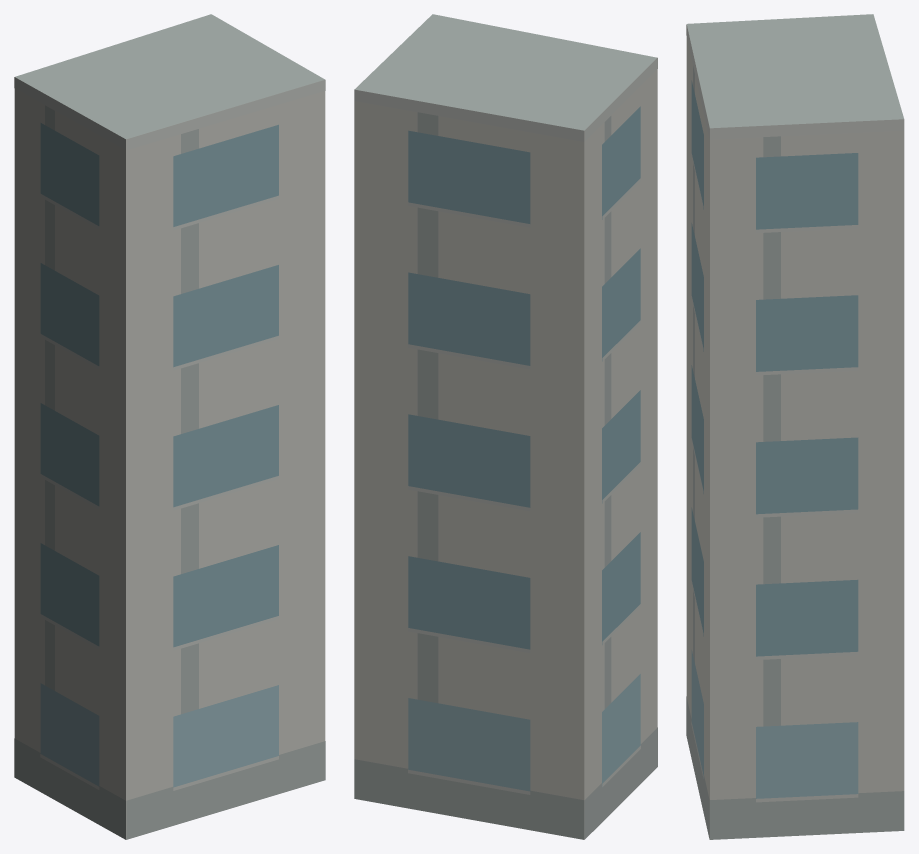
The model's file is survey-upis-32782228.glb.
3 renders of one model, left to right at view 1: azimuth 30°, elevation 25°; view 2: azimuth 150°, elevation 25°; view 3: azimuth 270°, elevation 25°, orthographic.
Visible parts, largest first — view 1: survey-upis-32782228.tmp; view 2: survey-upis-32782228.tmp; view 3: survey-upis-32782228.tmp.
Boxes of the visible parts, box(x1,y1,x2,y2) form: survey-upis-32782228.tmp: box(14, 14, 325, 839); survey-upis-32782228.tmp: box(354, 14, 657, 839); survey-upis-32782228.tmp: box(686, 14, 904, 839).
Bounding box in the file's own units: 5.26 × 15.25 × 4.24.
